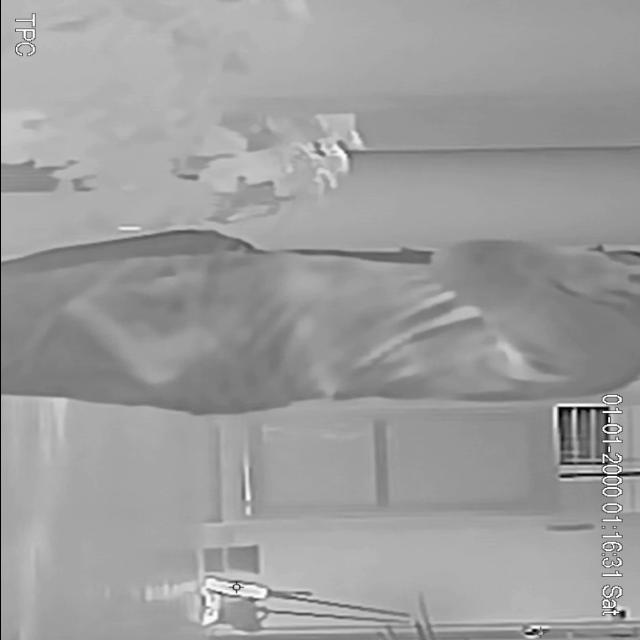Weapon: (44, 284, 252, 396)
